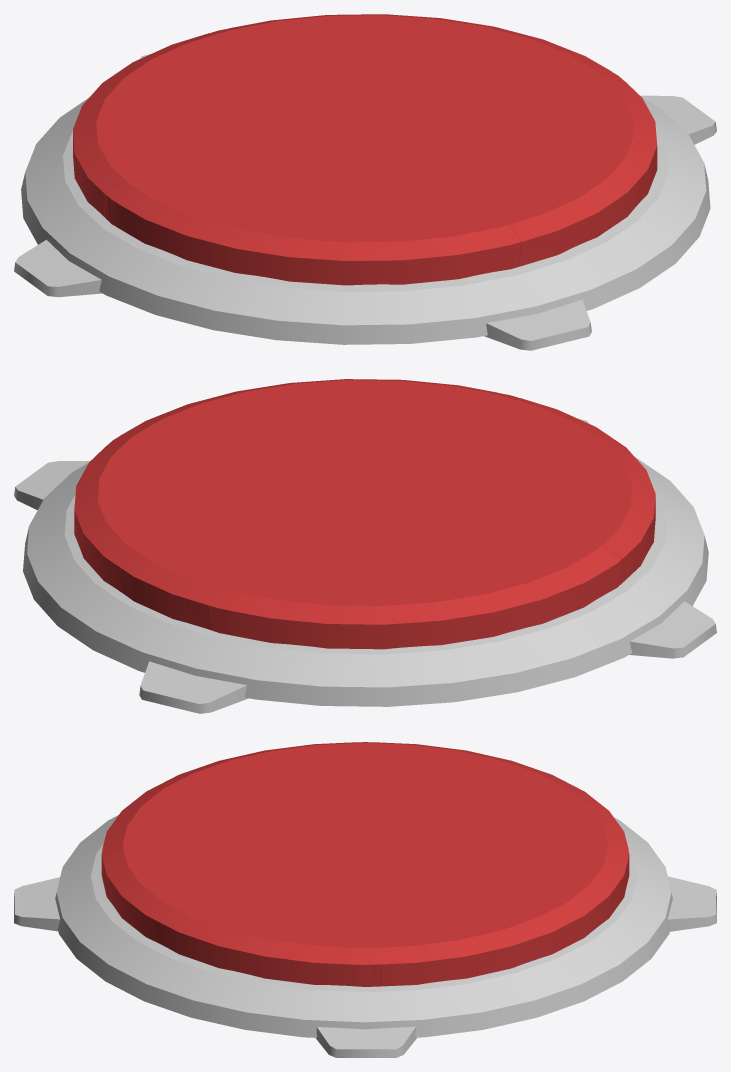
The model's file is LS_plate_Cb.fbx.
3 views of the same model, one above another, from view 1: azimuth 30°, elevation 25°; view 2: azimuth 150°, elevation 25°; view 3: azimuth 270°, elevation 25° (orthographic). The views are drawn at different scales.
Visible parts, largest first — view 1: LS_plate_CButton_3, LS_plate_CButton_1, LS_plate_C, LS_plate_CButton_2, LS_plate_wings; view 2: LS_plate_CButton_1, LS_plate_CButton_3, LS_plate_C, LS_plate_CButton_2, LS_plate_wings; view 3: LS_plate_CButton_3, LS_plate_CButton_1, LS_plate_C, LS_plate_CButton_2, LS_plate_wings.
Part boxes in pixels (bbox=[...]): LS_plate_CButton_3: bbox=[93, 15, 657, 285]; LS_plate_CButton_1: bbox=[83, 14, 624, 275]; LS_plate_C: bbox=[21, 98, 710, 344]; LS_plate_CButton_2: bbox=[73, 15, 641, 278]; LS_plate_wings: bbox=[14, 54, 716, 350]; LS_plate_CButton_1: bbox=[74, 380, 627, 649]; LS_plate_CButton_3: bbox=[101, 379, 655, 642]; LS_plate_C: bbox=[23, 457, 708, 706]; LS_plate_CButton_2: bbox=[89, 380, 653, 649]; LS_plate_wings: bbox=[14, 418, 716, 713]; LS_plate_CButton_3: bbox=[102, 742, 628, 986]; LS_plate_CButton_1: bbox=[101, 742, 629, 986]; LS_plate_C: bbox=[55, 815, 672, 1037]; LS_plate_CButton_2: bbox=[102, 742, 627, 984]; LS_plate_wings: bbox=[14, 876, 716, 1057].
Bounding box in the file's own units: 888 × 91.11 × 894.
